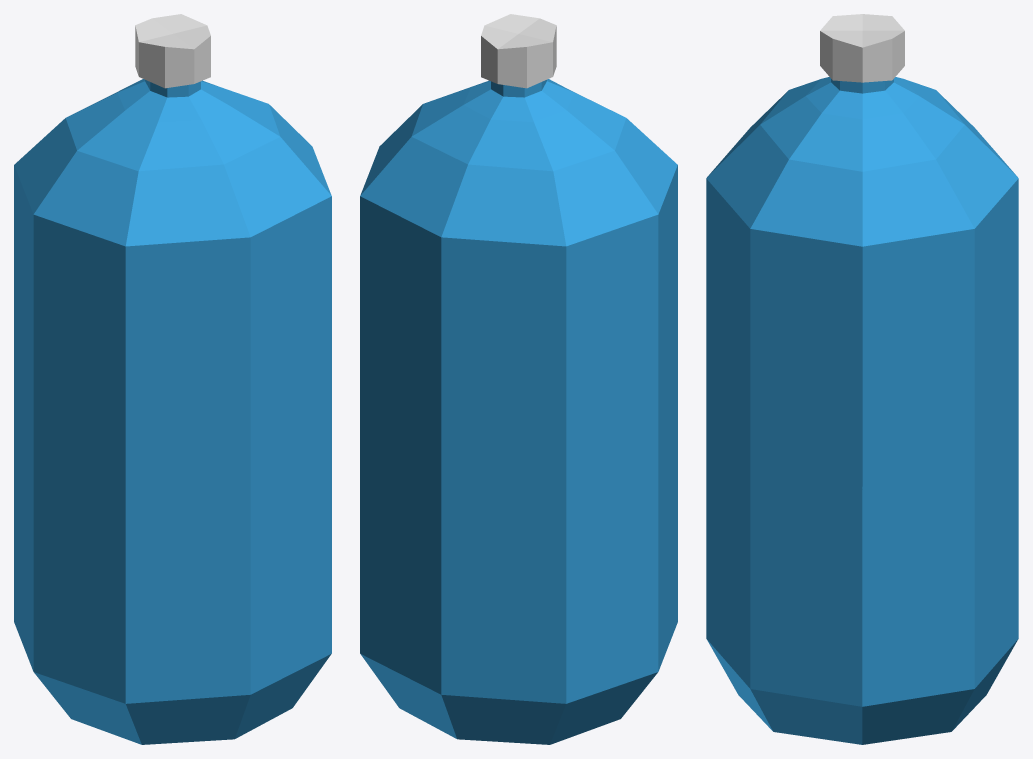
Rendered from Garrafa.fbx.
3 renders of one model, left to right at view 1: azimuth 30°, elevation 25°; view 2: azimuth 150°, elevation 25°; view 3: azimuth 270°, elevation 25°, orthographic.
Visible parts, largest first — view 1: Cube, Cube.001; view 2: Cube, Cube.001; view 3: Cube, Cube.001.
Part boxes in pixels (x1,y1,x2,y2): Cube: (14, 79, 331, 744); Cube.001: (135, 14, 210, 88); Cube: (360, 79, 677, 744); Cube.001: (481, 14, 556, 88); Cube: (706, 77, 1018, 744); Cube.001: (820, 14, 904, 82).
Bounding box in the file's own units: 267 × 606 × 257.
